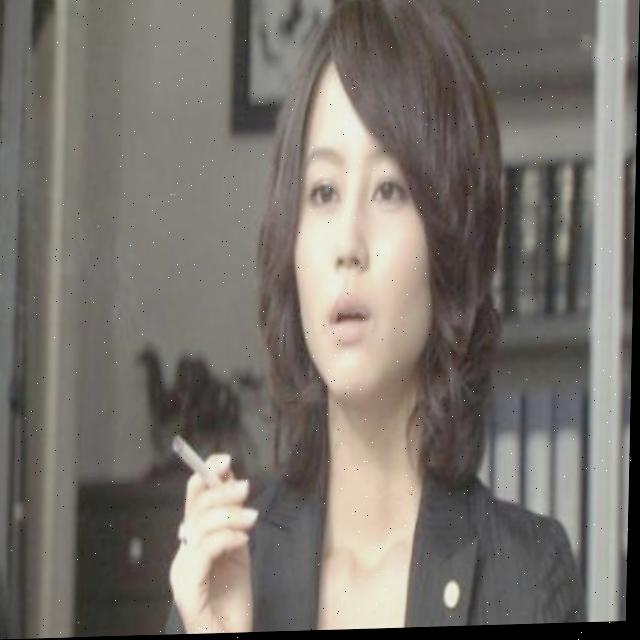cigarette: (173, 437, 221, 496)
